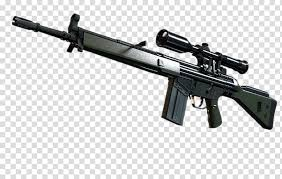gun: (9, 11, 277, 144)
